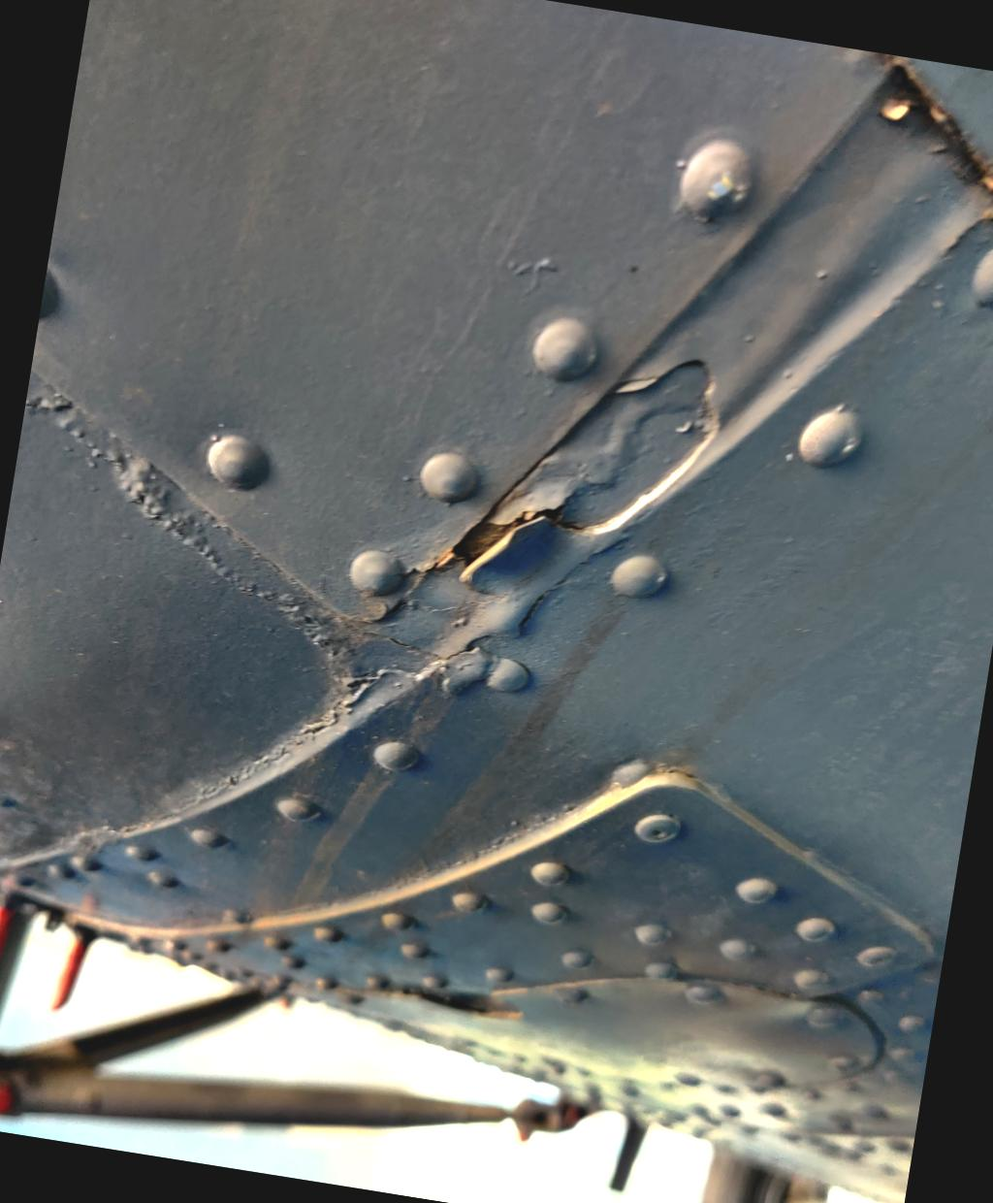crack: (400, 462, 609, 638)
